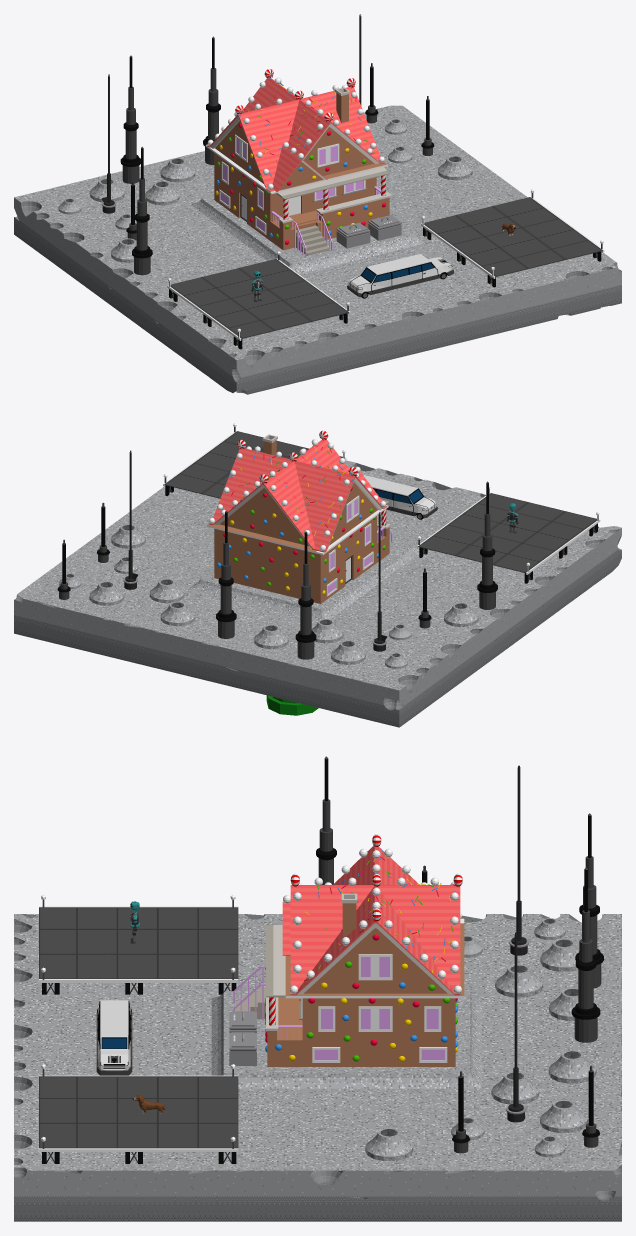
The picture shows the model from 3 angles, top to bottom: view 1: azimuth 30°, elevation 25°; view 2: azimuth 150°, elevation 25°; view 3: azimuth 270°, elevation 25°; orthographic projection. The views are drawn at different scales.
Parts seen in each view (by area): view 1: Cube.027, Cube.1203, Cube.026, Cube.025, Cube.028, VEHICLES_LIMOUSINE, Cylinder.020, Cylinder.021, Cylinder.017, Cube.029, Cube.030, Cylinder.027 (+3 smaller); view 2: Cube.027, Cube.1203, Cube.025, Cube.028, Cube.026, VEHICLES_LIMOUSINE, Cylinder.020, Cylinder.021, Cylinder.017, Cylinder.031, Cylinder.028, Cylinder.029 (+8 smaller); view 3: Cube.027, Cube.1203, Cube.025, Cube.026, Cube.028, VEHICLES_LIMOUSINE, Cylinder.017, Cylinder.020, Cylinder.021, Cylinder.033, Cylinder.031, Cylinder.029 (+9 smaller).
Part boxes in pixels (box(x1,y1,x2,y2)): Cube.027: box(14, 105, 621, 394); Cube.1203: box(205, 69, 392, 256); Cube.026: box(421, 189, 604, 287); Cube.025: box(167, 251, 350, 349); Cube.028: box(191, 195, 424, 274); VEHICLES_LIMOUSINE: box(347, 254, 453, 298); Cylinder.020: box(120, 55, 140, 183); Cylinder.021: box(132, 146, 152, 275); Cylinder.017: box(203, 36, 220, 164); Cube.029: box(336, 222, 370, 248); Cube.030: box(368, 215, 401, 240); Cylinder.027: box(160, 158, 195, 182); Cube.027: box(14, 460, 621, 727); Cube.1203: box(206, 430, 392, 603); Cube.025: box(417, 485, 600, 583); Cube.028: box(190, 538, 419, 620); Cube.026: box(163, 423, 346, 498); VEHICLES_LIMOUSINE: box(363, 475, 437, 519); Cylinder.020: box(295, 531, 316, 659); Cylinder.021: box(477, 481, 497, 609); Cylinder.017: box(216, 510, 236, 638); Cylinder.031: box(89, 581, 124, 605); Cylinder.028: box(331, 640, 365, 664); Cylinder.029: box(160, 601, 195, 626); Cube.027: box(14, 914, 621, 1221); Cube.1203: box(233, 834, 464, 1066); Cube.025: box(39, 895, 238, 994); Cube.026: box(39, 1064, 238, 1163); Cube.028: box(211, 991, 481, 1088); VEHICLES_LIMOUSINE: box(96, 1000, 132, 1075); Cylinder.017: box(571, 867, 600, 1042); Cylinder.020: box(575, 813, 603, 988); Cylinder.021: box(316, 756, 336, 884); Cylinder.033: box(365, 1128, 413, 1160); Cylinder.031: box(540, 1100, 587, 1132); Cylinder.029: box(548, 1050, 596, 1083).
Size of the model in its own units: 4000 by 2383 by 4000.
43 materials, 5 textured.
